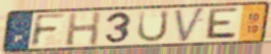3: (102, 11, 135, 45)
E: (203, 7, 240, 41)
F: (28, 12, 68, 49)
H: (64, 10, 104, 47)
U: (135, 9, 171, 44)
V: (172, 6, 207, 44)
